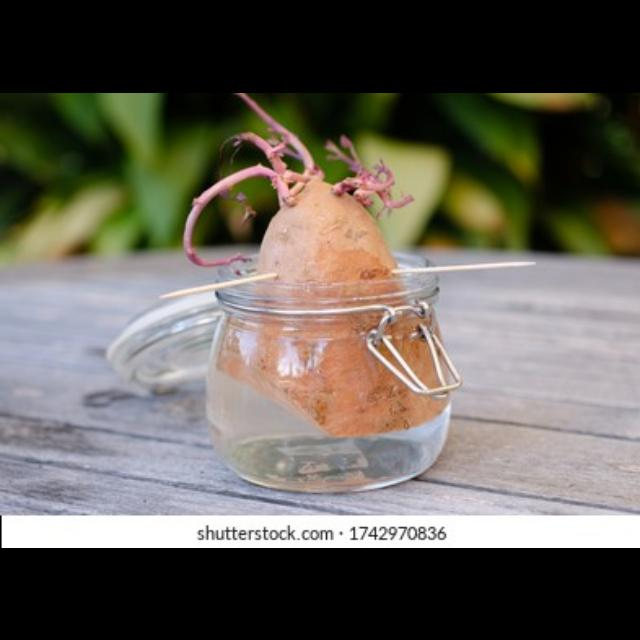Sprouted potato: (182, 92, 452, 454)
